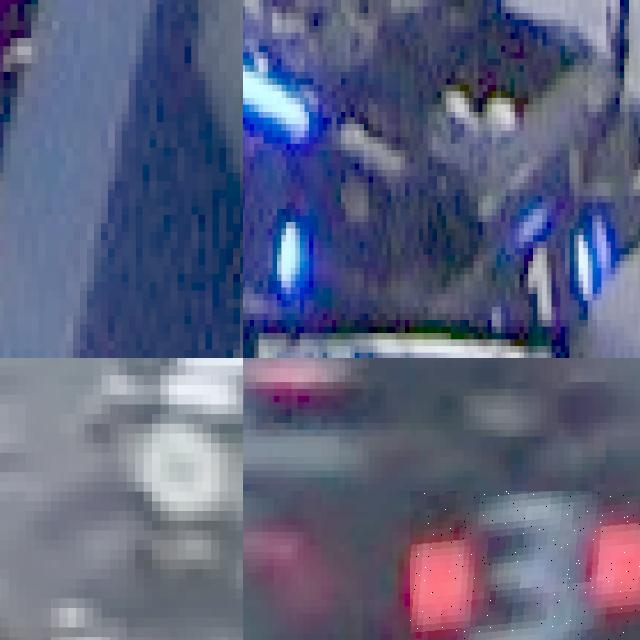B1: (490, 222, 599, 346), (243, 130, 309, 307)
R3: (410, 491, 640, 640)
